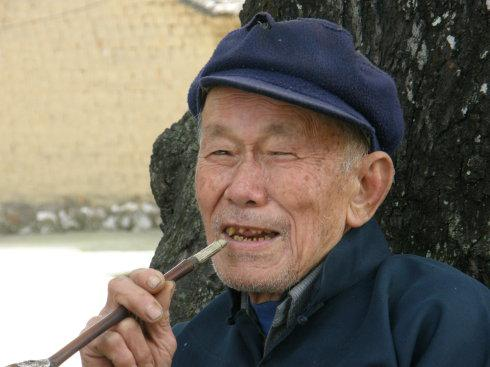smoking: (17, 235, 248, 367)
